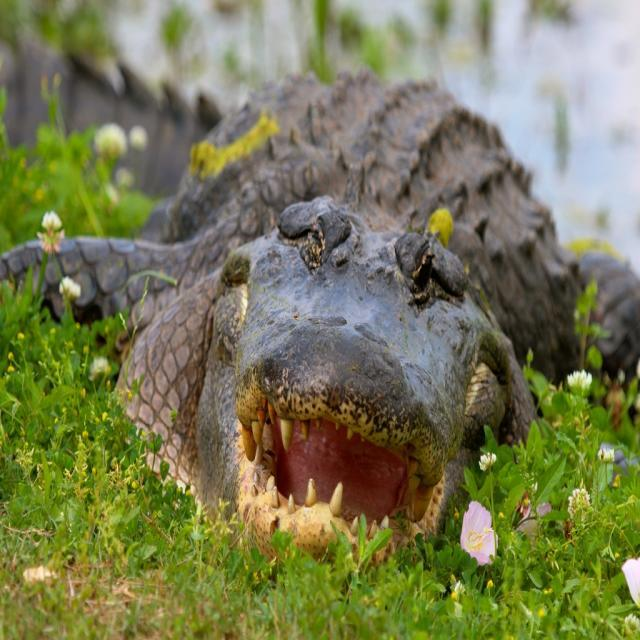crocodile: (0, 32, 639, 610)
